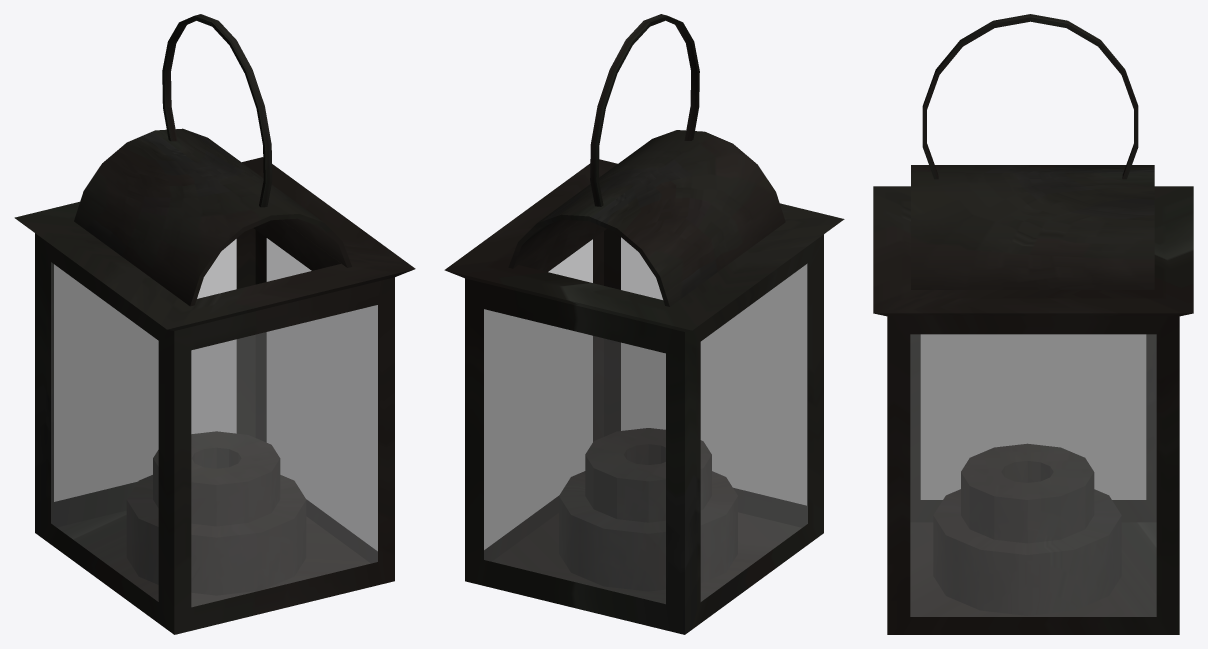
Rendered from Lantern.FBX.
3 views of the same model, side by side, from view 1: azimuth 30°, elevation 25°; view 2: azimuth 150°, elevation 25°; view 3: azimuth 270°, elevation 25° (orthographic). The views are drawn at different scales.
Visible parts, largest first — view 1: Box01, Tube01, Cylinder01, Tube02; view 2: Box01, Tube01, Cylinder01, Tube02; view 3: Box01, Tube01, Cylinder01, Tube02.
Part boxes in pixels (x1=…): Box01: x1=14, y1=157, x2=415, y2=634; Tube01: x1=74, y1=128, x2=351, y2=306; Cylinder01: x1=126, y1=431, x2=306, y2=595; Tube02: x1=162, y1=14, x2=272, y2=207; Box01: x1=444, y1=159, x2=844, y2=634; Tube01: x1=508, y1=130, x2=785, y2=306; Cylinder01: x1=559, y1=428, x2=737, y2=591; Tube02: x1=590, y1=14, x2=699, y2=206; Box01: x1=873, y1=186, x2=1193, y2=634; Tube01: x1=911, y1=165, x2=1154, y2=289; Cylinder01: x1=933, y1=443, x2=1121, y2=615; Tube02: x1=922, y1=14, x2=1138, y2=179.
Size of the model in its own units: 54.39 by 112 by 57.9.
Materials: 2 (1 with a texture image).
